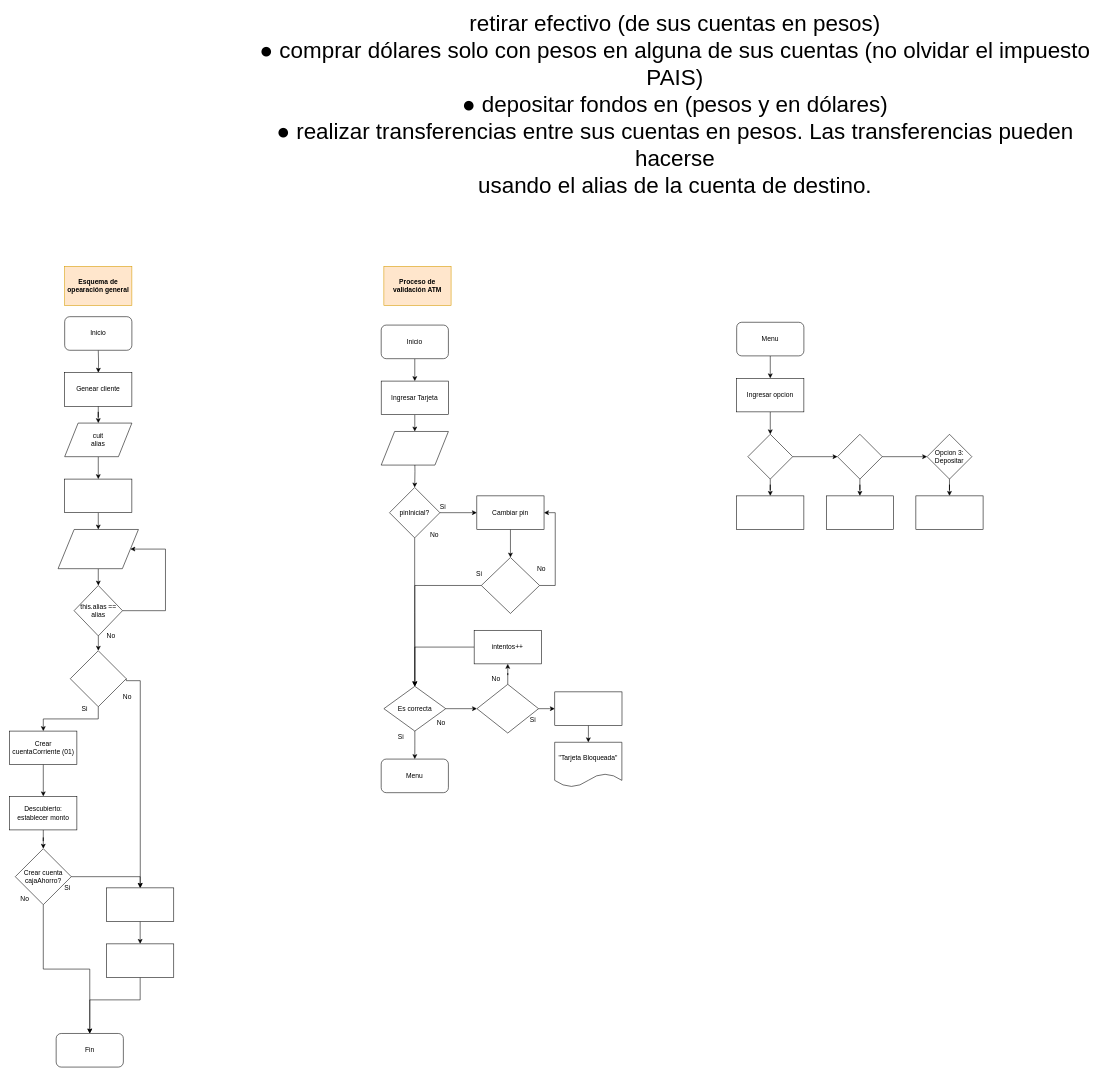
Some shapes in this 1116 by 1077 pixel diagram are drawn without their labels. Each missing label, with the box of its shape:
Bloquear tarjeta: (554, 691, 622, 725)
Crear cuenta cajaAhorroDolar(03): (106, 943, 174, 977)
Crear cuenta cajaAhorroPesos(02): (106, 887, 174, 921)
Crear cuenta Corriente?: (70, 650, 126, 707)
Generar tarjeta: (64, 479, 132, 513)
intentos == 3: (476, 684, 539, 733)
nuevoPin!= pinInicial: (481, 557, 540, 613)
numeroDeTarjeta pin this.alias: (58, 529, 138, 569)
Opcion 1: RetirarEFT: (747, 434, 793, 479)
Opcion 2: ComprarDolar: (837, 434, 882, 479)
pin: (381, 431, 448, 465)
